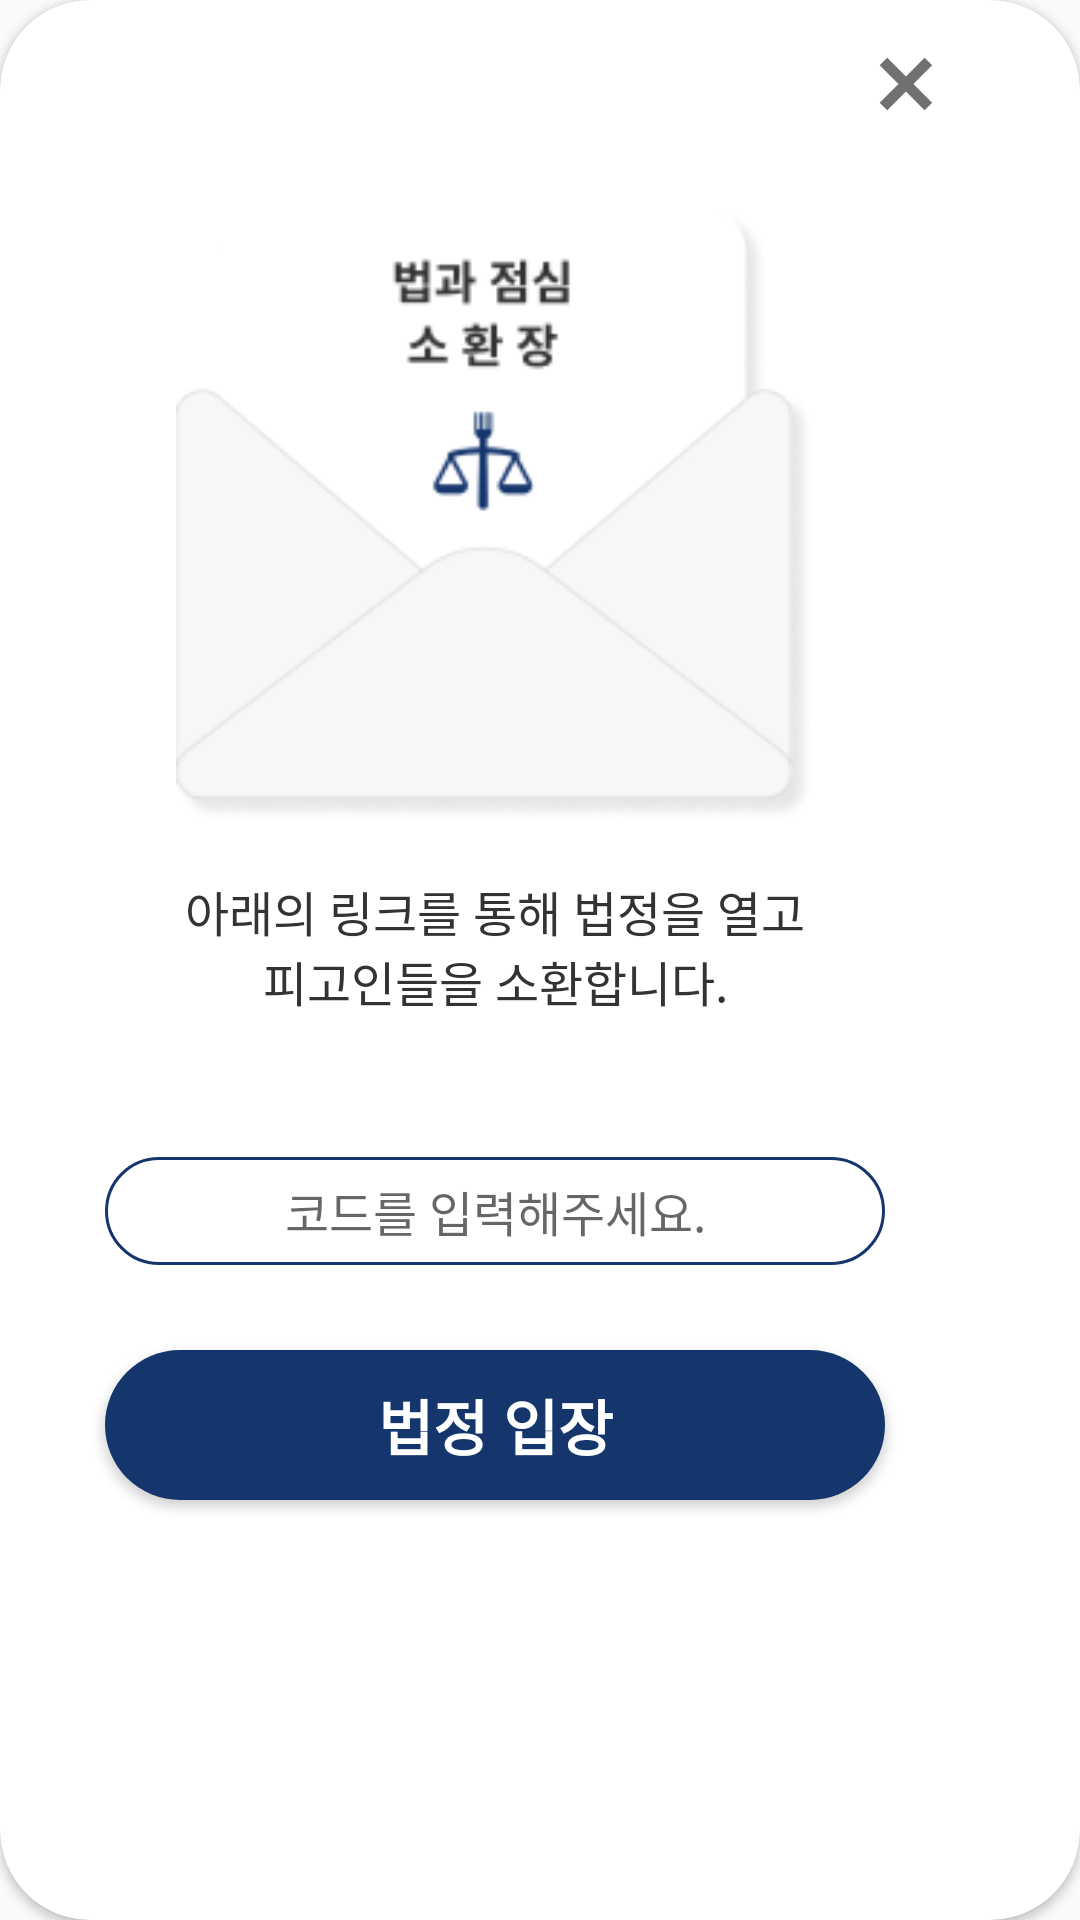

Where icons sit on this 1080w x 1920h app screen, as {"x1": x1, "y1": y1, "x2": x2, "y2": y2}:
close: {"x1": 880, "y1": 58, "x2": 932, "y2": 110}
